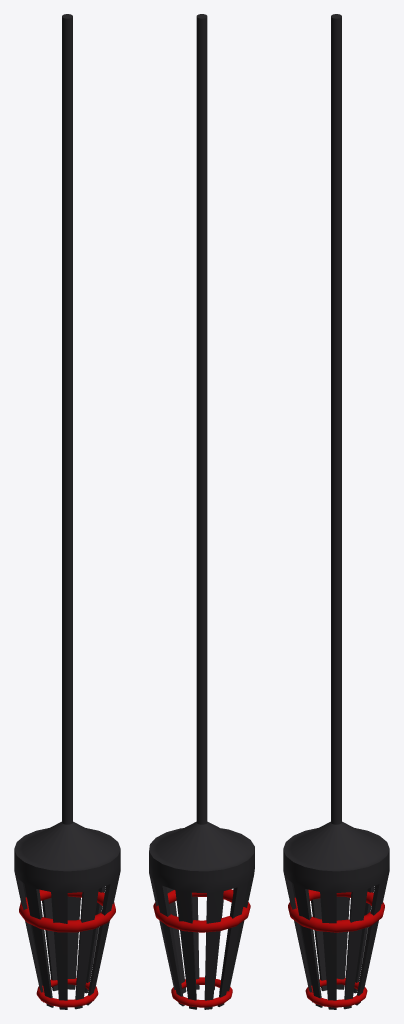
File: Hanging_Light.fbx
The picture shows the model from 3 angles, left to right: view 1: azimuth 90°, elevation 25°; view 2: azimuth 150°, elevation 25°; view 3: azimuth 270°, elevation 25°; orthographic projection.
Visible parts, largest first — view 1: pCylinder2; view 2: pCylinder2; view 3: pCylinder2.
Boxes of the visible parts, <box> form: pCylinder2: <box>14,14,120,1009</box>; pCylinder2: <box>149,14,254,1009</box>; pCylinder2: <box>283,14,389,1009</box>.
Bounding box in the file's own units: 57.6 × 587 × 57.6.
